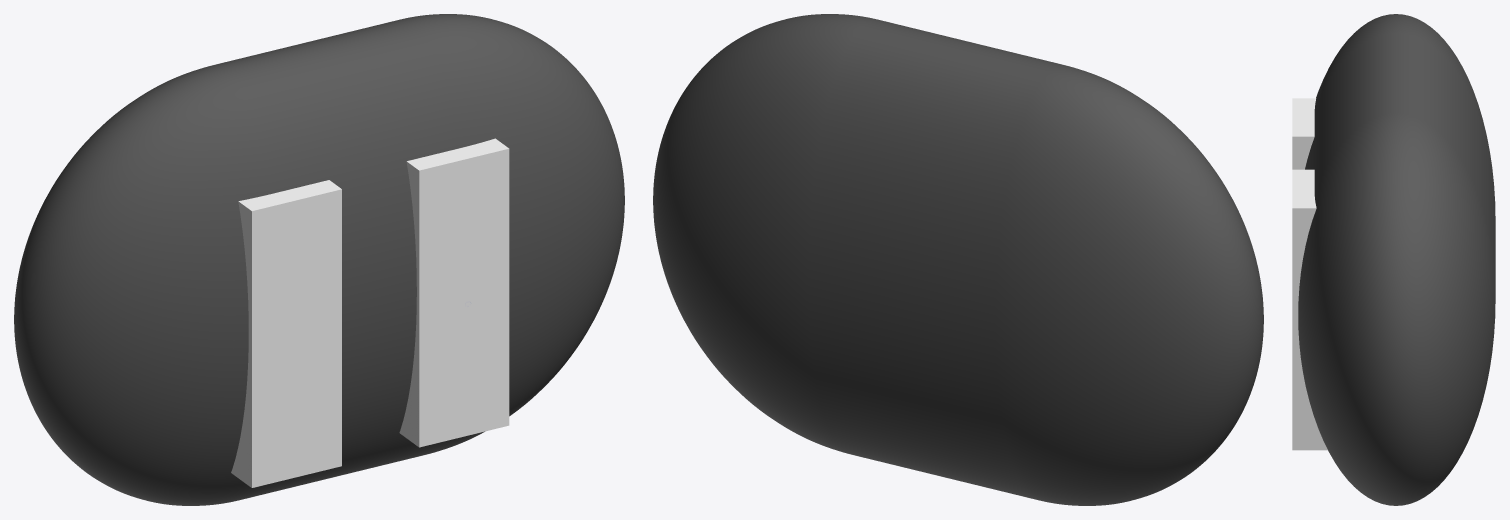
The model's file is pause_new.fbx.
The picture shows the model from 3 angles, left to right: view 1: azimuth 30°, elevation 25°; view 2: azimuth 150°, elevation 25°; view 3: azimuth 270°, elevation 25°; orthographic projection. The views are drawn at different scales.
Parts seen in each view (by area): view 1: root (×3); view 2: root; view 3: root (×3).
Part boxes in pixels (<box>): root (×3): <box>14,14,624,505</box>; root: <box>653,14,1263,505</box>; root (×3): <box>1292,14,1495,505</box>.
Bounding box in the file's own units: 0.4498 × 0.3086 × 0.1521.
Materials: 3 (2 with a texture image).
